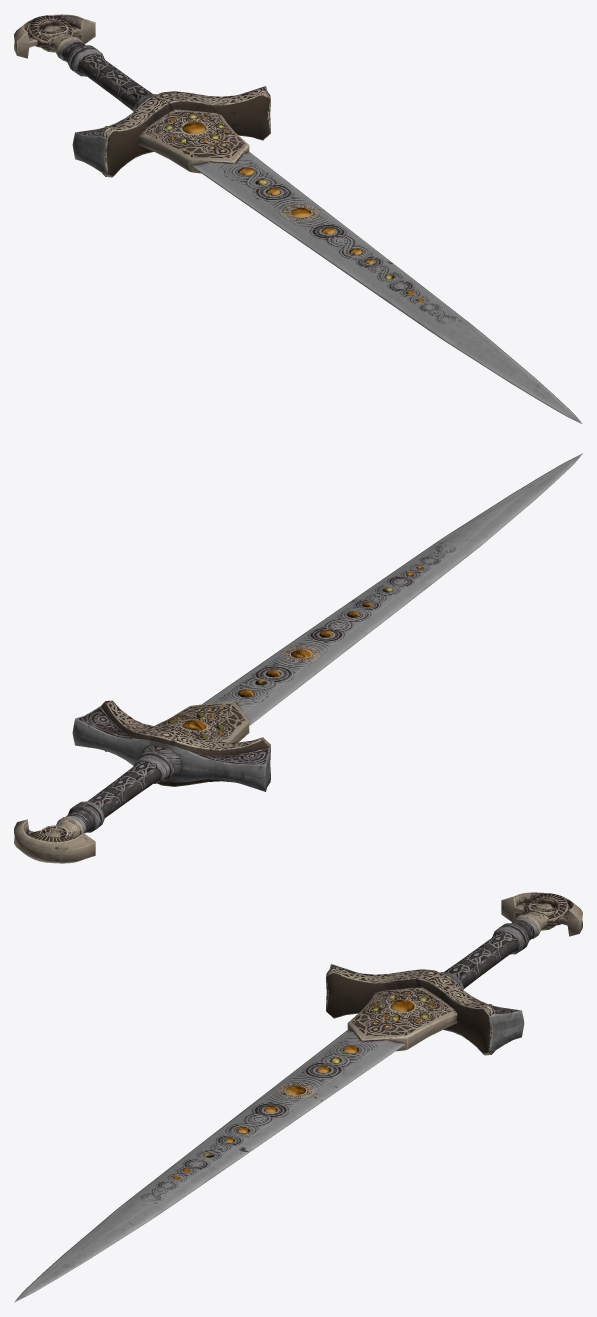
File: miquellanknightssword.fbx
3 renders of one model, top to bottom at view 1: azimuth 30°, elevation 25°; view 2: azimuth 150°, elevation 25°; view 3: azimuth 330°, elevation 25°, orthographic.
Parts seen in each view (by area): view 1: WP_A_0229, WP_A_0229.001; view 2: WP_A_0229, WP_A_0229.001; view 3: WP_A_0229, WP_A_0229.001.
Part boxes in pixels (x1,y1,x2,y2): WP_A_0229: (14,14,582,423); WP_A_0229.001: (165,113,423,301); WP_A_0229: (14,453,582,863); WP_A_0229.001: (168,565,423,738); WP_A_0229: (14,892,582,1302); WP_A_0229.001: (173,992,434,1179).
Size of the model in its own units: 23.48 by 5.93 by 115.
2 materials, 2 textured.
